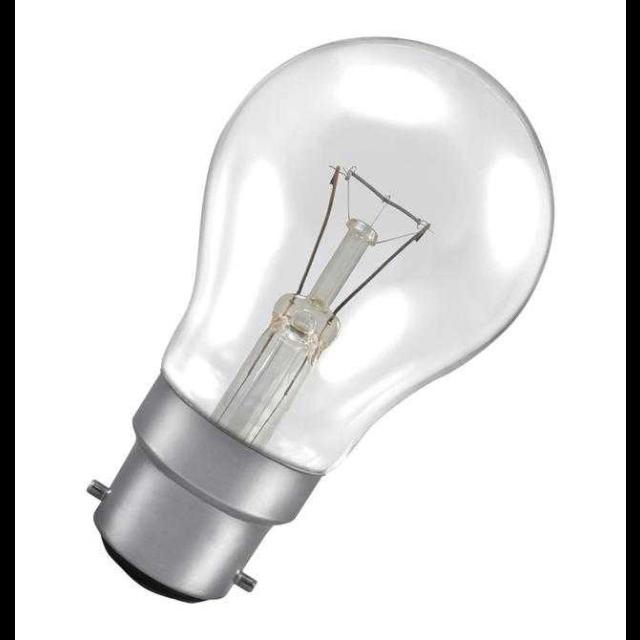light_bulb: (87, 30, 559, 626)
